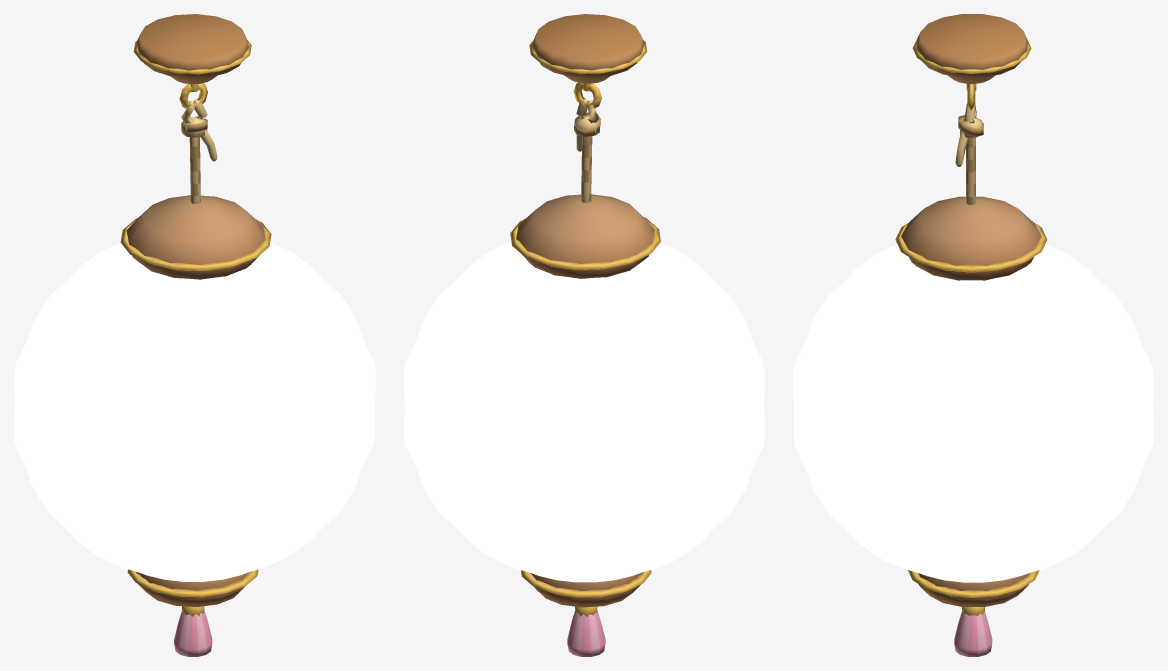
File: furn-paperPendant.glb
3 renders of one model, left to right at view 1: azimuth 30°, elevation 25°; view 2: azimuth 150°, elevation 25°; view 3: azimuth 270°, elevation 25°, orthographic.
Parts seen in each view (by area): view 1: furn-paperPendant; view 2: furn-paperPendant; view 3: furn-paperPendant.
Boxes of the visible parts, x1,y1,x2,y2 form: furn-paperPendant: (14, 14, 375, 656); furn-paperPendant: (404, 14, 764, 656); furn-paperPendant: (793, 14, 1153, 656).
Size of the model in its own units: 0.3701 by 0.7 by 0.3702.
